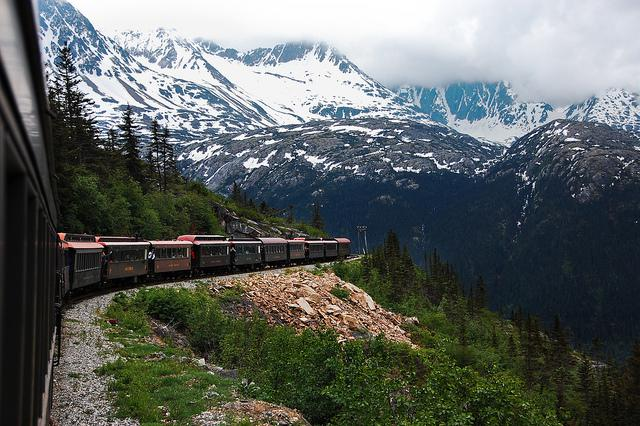Train: (0, 2, 354, 420)
